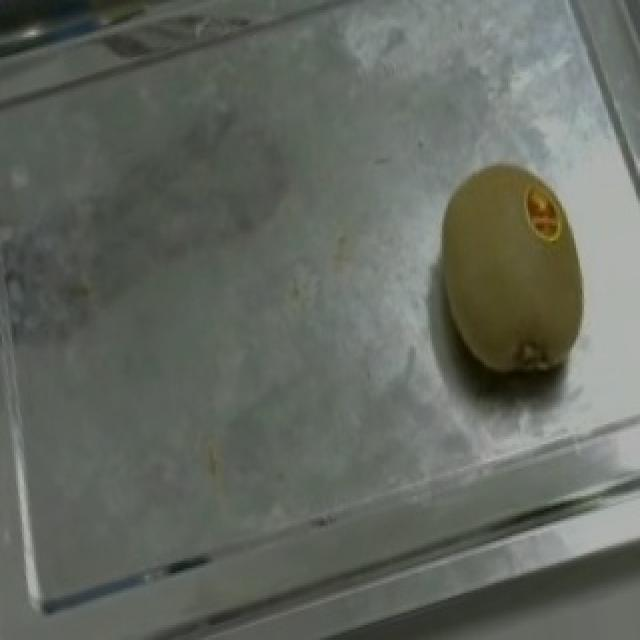Fruit: (400, 134, 632, 412)
